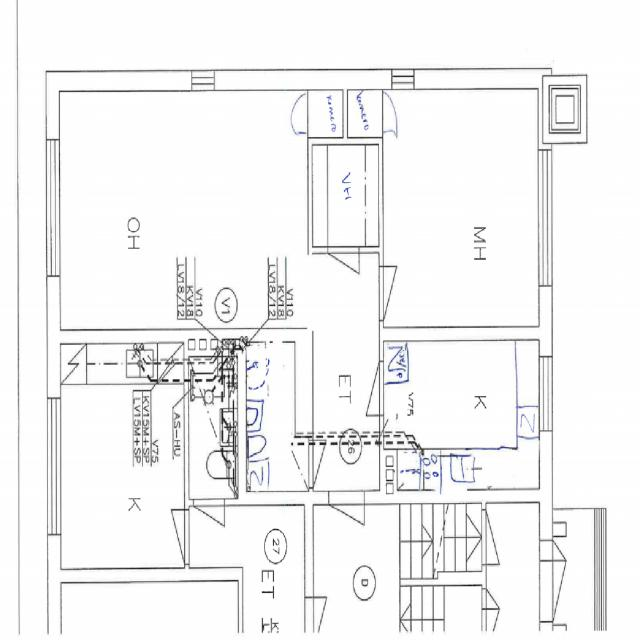door: (328, 490, 364, 558), (378, 265, 418, 320), (344, 362, 383, 414), (308, 440, 344, 488), (329, 247, 358, 300), (281, 94, 312, 134), (379, 95, 409, 134)
